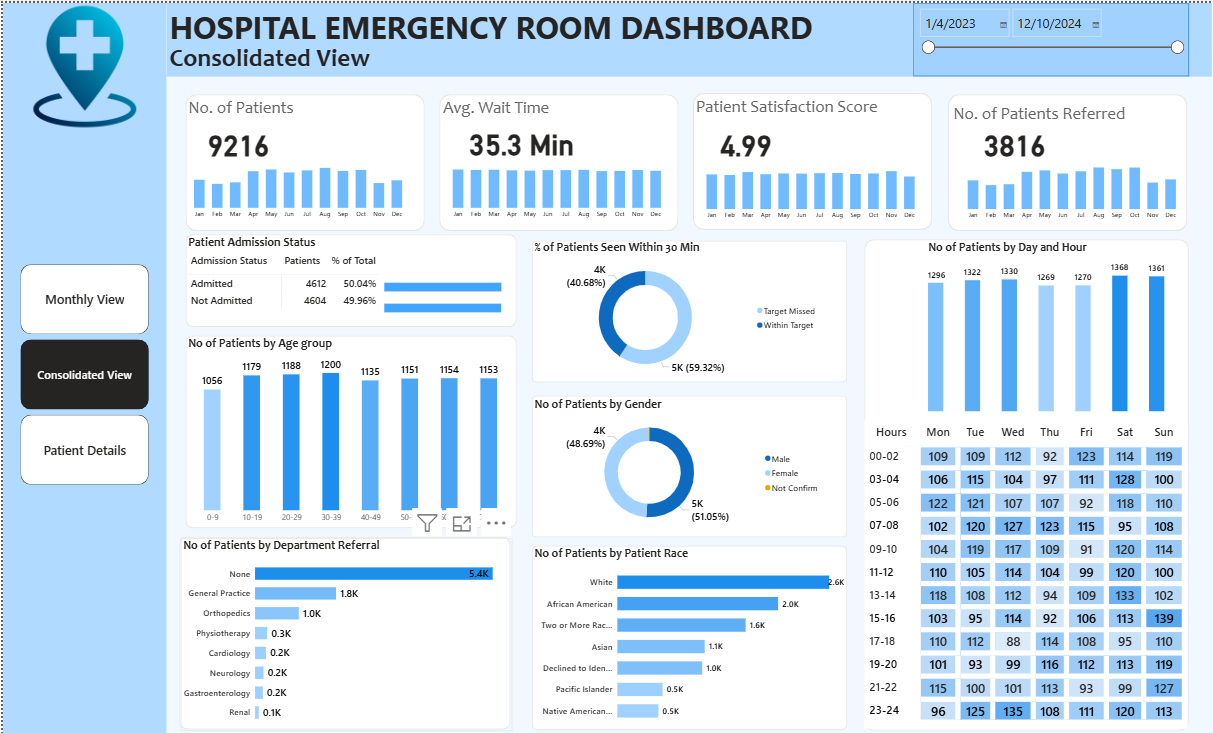

The page's visual inventory and layout, read from the dashboard file:
{"tool":"powerbi","page":{"name":"Consolidated View","canvas":[2300,1400],"ordinal":1},"visuals":[{"type":"shape","box":[1313.6,170.8,455,260.4],"z":0},{"type":"shape","box":[347.2,173.6,455,260.4],"z":1000},{"type":"shape","box":[0,0,310.8,1400],"z":2000},{"type":"shape","box":[310.8,0,1988,140],"z":3000},{"type":"textbox","box":[310.8,0,1271.2,98],"z":4000},{"type":"textbox","box":[311.1,69.4,408.3,69.4],"z":5000},{"type":"card","fields":{"Values":["Hospital ER_Data.NO of Patients"]},"box":[347.2,204.4,201.6,123.2],"z":6000},{"type":"slicer","fields":{"Values":["Date Table.Date"]},"box":[1730.6,0,525,138.9],"z":7000},{"type":"textbox","box":[347.2,173.6,246.4,58.8],"z":8000},{"type":"clusteredColumnChart","fields":{"Y":["Hospital ER_Data.No of Patients"],"Category":["Date Table.Month Name"]},"box":[344.4,294,434,125],"z":9000},{"type":"shape","box":[830.4,173.6,455,260.4],"z":10000},{"type":"card","fields":{"Values":["Hospital ER_Data.Avg wait time"]},"box":[870.8,201.6,232.4,123.2],"z":11000},{"type":"textbox","box":[826,173.6,277.2,58.8],"z":12000},{"type":"clusteredColumnChart","fields":{"Category":["Date Table.Month Name"],"Y":["Avg(Hospital ER_Data.Patient Waittime)"]},"box":[837.2,294,434,125],"z":13000},{"type":"card","fields":{"Values":["Hospital ER_Data.Satisfaction Score"]},"box":[1313.6,204.8,201.6,123.2],"z":14000},{"type":"textbox","box":[1313.2,170.8,364,61.6],"z":15000},{"type":"clusteredColumnChart","fields":{"Y":["Hospital ER_Data.Satisfaction Score"],"Category":["Date Table.Month Name"]},"box":[1318.8,296.8,434,125],"z":16000},{"type":"shape","box":[1796.7,172.4,455,260.4],"z":17000},{"type":"card","fields":{"Values":["Hospital ER_Data.No of Patients Referred"]},"box":[1822.8,204.4,201.6,123.2],"z":18000},{"type":"textbox","box":[1803.2,184.8,355.6,58.8],"z":19000},{"type":"clusteredColumnChart","fields":{"Y":["Hospital ER_Data.No of Patients Referred"],"Category":["Date Table.Month Name"]},"box":[1817.2,296.8,434,125],"z":20000},{"type":"shape","box":[347.2,439.6,630,176.4],"z":21000},{"type":"pivotTable","title":"Patient Admission Status","fields":{"Rows":["Hospital ER_Data.Admission Status"],"Values":["Hospital ER_Data.No of Patients1","Hospital ER_Data.No of Patients"]},"box":[346.7,440,630,170],"z":22000},{"type":"barChart","fields":{"Category":["Hospital ER_Data.Admission Status"],"Y":["Hospital ER_Data.No of Patients"]},"box":[719.6,498.4,299.6,117.6],"z":23000},{"type":"shape","box":[347.2,632.8,630,366.8],"z":24000},{"type":"clusteredColumnChart","fields":{"Category":["Hospital ER_Data.Age group"],"Y":["Hospital ER_Data.No of Patients"]},"box":[346.7,633.3,630,366.7],"z":25000},{"type":"shape","box":[336,1016.4,630,366.8],"z":26000},{"type":"shape","box":[1005.2,450.8,600,270],"z":27000},{"type":"clusteredBarChart","fields":{"Category":["Hospital ER_Data.Department Referral"],"Y":["Hospital ER_Data.No of Patients"]},"box":[336.7,1018.3,630,365],"z":28000},{"type":"donutChart","title":"% of Patients Seen Within 30 Min","fields":{"Category":["Hospital ER_Data.Wait time status"],"Y":["Hospital ER_Data.No of Patients"]},"box":[1005,450,553.3,270],"z":29000},{"type":"shape","box":[1005,747.5,600,270],"z":30000},{"type":"donutChart","title":"No of Patients by Gender","fields":{"Y":["Hospital ER_Data.No of Patients"],"Category":["Hospital ER_Data.Patient Gender"]},"box":[1005,748.3,558.3,260],"z":31000},{"type":"shape","box":[1005,1031.7,600,351.7],"z":32000},{"type":"clusteredBarChart","fields":{"Y":["Hospital ER_Data.No of Patients"],"Category":["Hospital ER_Data.Patient Race"]},"box":[1005,1031.7,600,350],"z":33000},{"type":"shape","box":[1637.5,450,617.5,935],"z":34000},{"type":"pivotTable","fields":{"Rows":["Hospital ER_Data.Wait Time Interval"],"Values":["Hospital ER_Data.No of Patients"],"Columns":["Date Table.Day name"]},"box":[1638.1,795.2,614.3,585.7],"z":35000},{"type":"columnChart","title":"No of Patients by Day and Hour","fields":{"Y":["Hospital ER_Data.No of Patients"],"Category":["Date Table.Day name"]},"box":[1754.8,450,461.9,333.3],"z":36000},{"type":"image","box":[33.3,0,244.4,241.7],"z":37000},{"type":"pageNavigator","box":[33.3,497.2,244.4,419.4],"z":38000}]}

Visuals, with their boxes in screenshot pixels (x1, y1, x2, y2), scaled from the page's 2300x1400 canvas onto the 1213x733 screenshot:
shape: (693,89,933,226)
shape: (183,91,423,227)
shape: (0,0,164,732)
shape: (164,0,1212,73)
textbox: (164,0,834,51)
textbox: (164,36,379,73)
card - Hospital ER_Data.NO of Patients: (183,107,289,172)
slicer - Date Table.Date: (913,0,1190,73)
textbox: (183,91,313,122)
clusteredColumnChart - Hospital ER_Data.No of Patients x Date Table.Month Name: (182,154,411,219)
shape: (438,91,678,227)
card - Hospital ER_Data.Avg wait time: (459,106,582,170)
textbox: (436,91,582,122)
clusteredColumnChart - Date Table.Month Name x Avg(Hospital ER_Data.Patient Waittime): (442,154,670,219)
card - Hospital ER_Data.Satisfaction Score: (693,107,799,172)
textbox: (693,89,885,122)
clusteredColumnChart - Hospital ER_Data.Satisfaction Score x Date Table.Month Name: (696,155,924,221)
shape: (948,90,1188,227)
card - Hospital ER_Data.No of Patients Referred: (961,107,1068,172)
textbox: (951,97,1139,128)
clusteredColumnChart - Hospital ER_Data.No of Patients Referred x Date Table.Month Name: (958,155,1187,221)
shape: (183,230,515,323)
"Patient Admission Status" pivotTable: (183,230,515,319)
barChart - Hospital ER_Data.Admission Status x Hospital ER_Data.No of Patients: (380,261,538,323)
shape: (183,331,515,523)
clusteredColumnChart - Hospital ER_Data.Age group x Hospital ER_Data.No of Patients: (183,332,515,524)
shape: (177,532,509,724)
shape: (530,236,847,377)
clusteredBarChart - Hospital ER_Data.Department Referral x Hospital ER_Data.No of Patients: (178,533,510,724)
"% of Patients Seen Within 30 Min" donutChart: (530,236,822,377)
shape: (530,391,846,533)
"No of Patients by Gender" donutChart: (530,392,824,528)
shape: (530,540,846,724)
clusteredBarChart - Hospital ER_Data.No of Patients x Hospital ER_Data.Patient Race: (530,540,846,723)
shape: (864,236,1189,725)
pivotTable - Hospital ER_Data.Wait Time Interval x Hospital ER_Data.No of Patients: (864,416,1188,723)
"No of Patients by Day and Hour" columnChart: (925,236,1169,410)
image: (18,0,146,127)
pageNavigator: (18,260,146,480)
